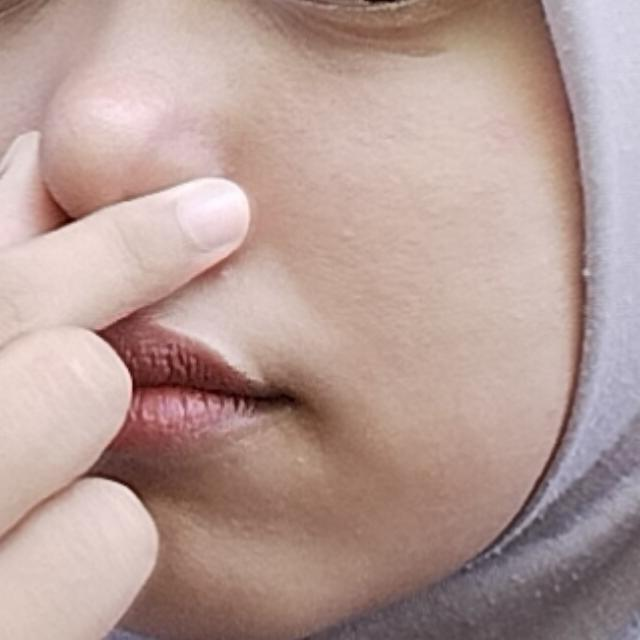bau: (0, 48, 450, 640)
